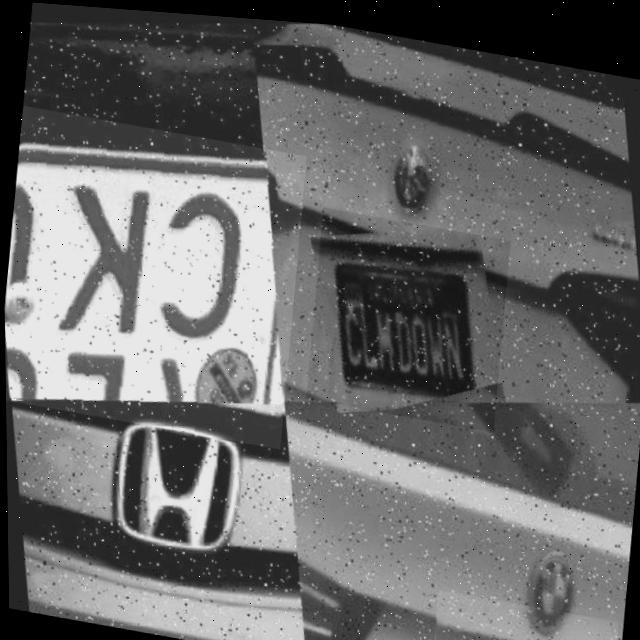LicensePlate: (1, 103, 309, 446), (302, 201, 512, 425), (427, 583, 616, 640)
